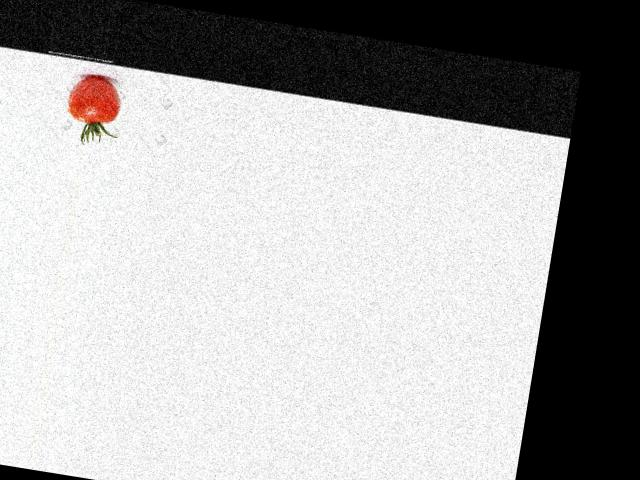tomato: (66, 73, 125, 126)
